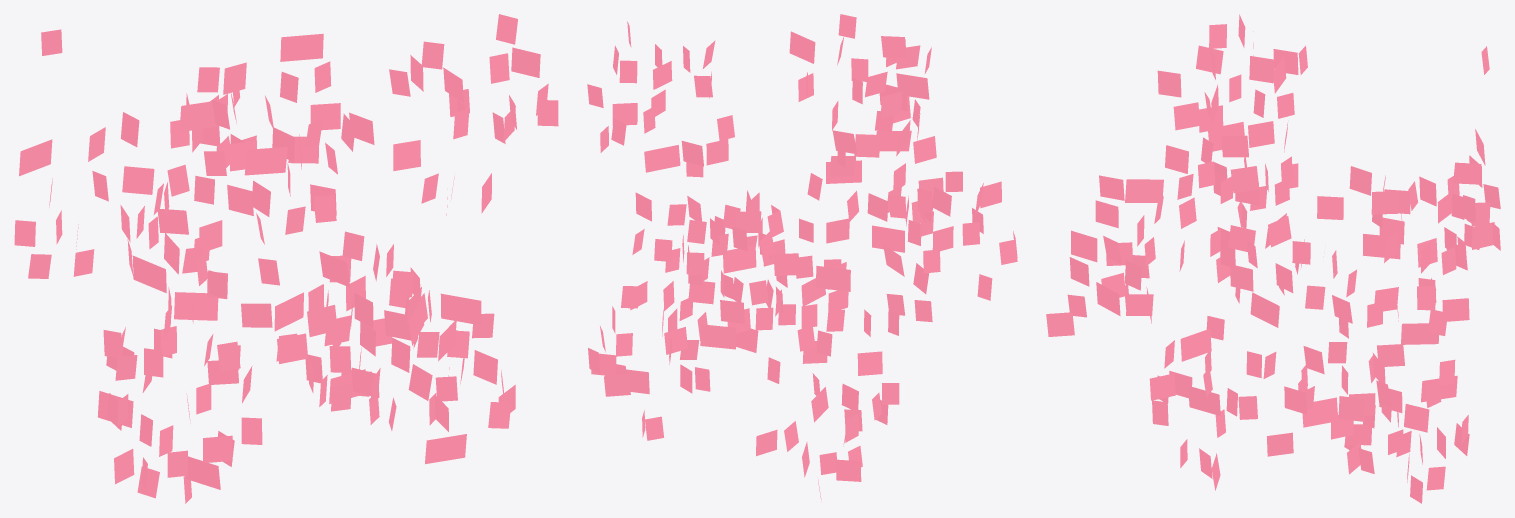
3 views of the same model, side by side, from view 1: azimuth 30°, elevation 25°; view 2: azimuth 150°, elevation 25°; view 3: azimuth 270°, elevation 25° (orthographic). The views are drawn at different scales.
Parts seen in each view (by area): view 1: P_projekt-e_002, P_projekt-d_003, P_projekt-d_014, P_projekt-i_009, P_projekt-i_015, P_projekt-d_010, P_projekt-e_008, P_projekt-g_010, P_projekt-g_015, P_projekt-b_020, P_projekt-h_013, P_projekt-b_010 (+12 smaller); view 2: P_projekt-f_018, P_projekt-g_015, P_projekt-a_011, P_projekt-i_005, P_projekt-b_017, P_projekt-d_010, P_projekt-h_012, P_projekt-d_003, P_projekt-b_009, P_projekt-g_016, P_projekt-f_009, P_projekt-h_005 (+10 smaller); view 3: P_projekt-b_014, P_projekt-h_019, P_projekt-i_009, P_projekt-h_010, P_projekt-i_005, P_projekt-a_011, P_projekt-b_008, P_projekt-a_005, P_projekt-g_003, P_projekt-b_015, P_projekt-c_005, P_projekt-f_005 (+26 smaller).
Part boxes in pixels (x1,y1,x2,y2): P_projekt-e_002: [174, 292, 218, 320]; P_projekt-d_003: [280, 33, 323, 61]; P_projekt-d_014: [244, 147, 287, 175]; P_projekt-i_009: [440, 293, 481, 325]; P_projekt-i_015: [425, 434, 466, 464]; P_projekt-d_010: [179, 100, 218, 132]; P_projekt-e_008: [132, 255, 166, 293]; P_projekt-g_010: [122, 166, 154, 194]; P_projekt-g_015: [19, 139, 52, 176]; P_projekt-b_020: [277, 333, 308, 363]; P_projekt-h_013: [203, 435, 232, 463]; P_projekt-b_010: [307, 304, 337, 336]; P_projekt-f_018: [700, 324, 736, 349]; P_projekt-g_015: [816, 265, 850, 291]; P_projekt-a_011: [644, 145, 680, 172]; P_projekt-i_005: [723, 245, 756, 273]; P_projekt-b_017: [872, 225, 904, 252]; P_projekt-d_010: [896, 73, 929, 99]; P_projekt-h_012: [857, 351, 882, 375]; P_projekt-d_003: [789, 31, 815, 63]; P_projekt-b_009: [854, 134, 880, 157]; P_projekt-g_016: [773, 253, 799, 275]; P_projekt-f_009: [604, 374, 630, 396]; P_projekt-h_005: [836, 459, 861, 481]; P_projekt-b_014: [1125, 179, 1163, 202]; P_projekt-h_019: [1302, 397, 1337, 427]; P_projekt-i_009: [1180, 328, 1211, 361]; P_projekt-h_010: [1401, 323, 1438, 344]; P_projekt-i_005: [1188, 385, 1220, 416]; P_projekt-a_011: [1250, 292, 1279, 327]; P_projekt-b_008: [1071, 230, 1097, 262]; P_projekt-a_005: [1230, 166, 1259, 193]; P_projekt-g_003: [1362, 234, 1400, 259]; P_projekt-b_015: [1046, 312, 1074, 336]; P_projekt-c_005: [1371, 191, 1398, 214]; P_projekt-f_005: [1338, 396, 1365, 421].
Size of the model in its own units: 55.44 by 57.87 by 54.88.
